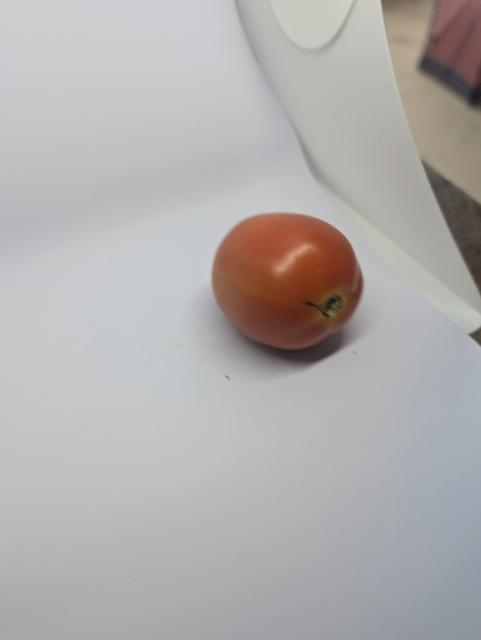red: (201, 199, 371, 387)
